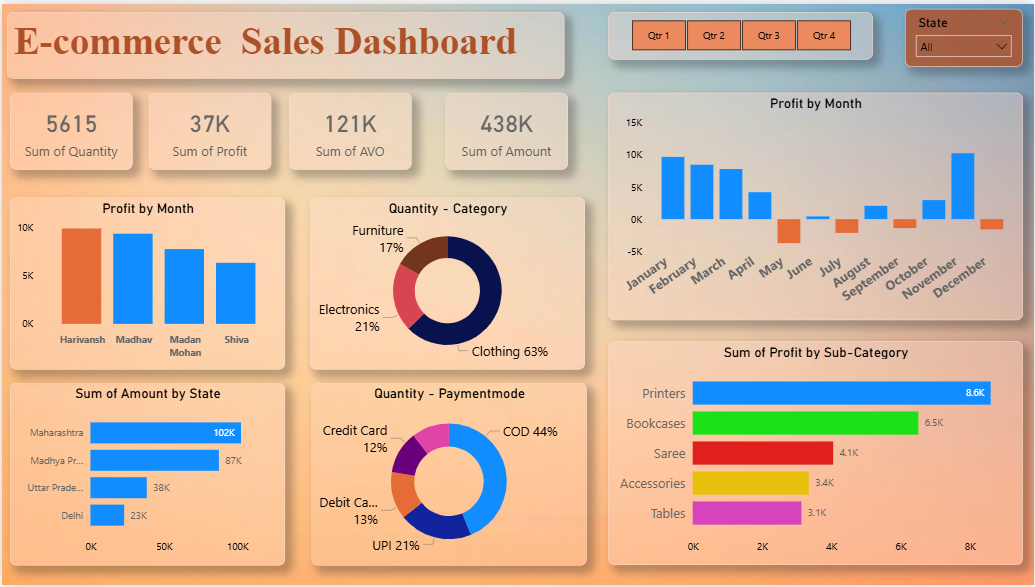

Layout of this report page (visuals, bound fields, positions):
{"tool":"powerbi","page":{"name":"Page 1","canvas":[1280,720],"ordinal":0},"visuals":[{"type":"textbox","box":[6.5,10.9,691.3,82.6],"z":0},{"type":"columnChart","title":"Profit by Month","fields":{"Y":["Sum(Details.Profit)"],"Category":["Orders.Order Date.Variation.Date Hierarchy.Month"]},"box":[752,110,514,282],"z":1000},{"type":"barChart","fields":{"Category":["Details.Sub-Category"],"Y":["Sum(Details.Profit)"]},"box":[752,418,514,278],"z":1001},{"type":"donutChart","title":"Quantity - Category","fields":{"Category":["Details.Category"],"Y":["Sum(Details.Quantity)"]},"box":[382.6,239.1,341.3,213],"z":1002},{"type":"donutChart","title":"Quantity - Paymentmode","fields":{"Y":["Sum(Details.Quantity)"],"Category":["Details.PaymentMode"]},"box":[384.8,469.5,341.3,226.1],"z":1003},{"type":"card","fields":{"Values":["Sum(Details.Amount)"]},"box":[550,110.9,152.2,95.6],"z":1005},{"type":"card","fields":{"Values":["Sum(Details.Profit)"]},"box":[182.6,110.9,152.2,95.6],"z":1006},{"type":"card","fields":{"Values":["Sum(Details.Quantity)"]},"box":[10.9,110.9,152.2,95.6],"z":1007},{"type":"card","fields":{"Values":["Sum(Details.AVO)"]},"box":[356.5,110.9,152.2,95.6],"z":1008},{"type":"barChart","fields":{"Category":["Orders.State"],"Y":["Sum(Details.Amount)"]},"box":[10.9,469.5,341.3,226.1],"z":1009},{"type":"columnChart","title":"Profit by Month","fields":{"Category":["Orders.CustomerName"],"Y":["Sum(Details.Amount)"]},"box":[10.9,239.1,341.3,213],"z":1010},{"type":"slicer","fields":{"Values":["Orders.Order Date.Variation.Date Hierarchy.Quarter"]},"box":[752.1,10.9,328.2,58.7],"z":1011},{"type":"slicer","fields":{"Values":["Orders.State"]},"box":[1119.5,6.5,145.6,71.7],"z":1012}]}

Visuals, with their boxes in screenshot pixels (x1, y1, x2, y2), scaled from the page's 1280x720 canvas onto the 1035x587 screenshot:
textbox: [left=5, top=9, right=564, bottom=76]
"Profit by Month" columnChart: [left=608, top=90, right=1024, bottom=320]
barChart - Details.Sub-Category x Sum(Details.Profit): [left=608, top=341, right=1024, bottom=567]
"Quantity - Category" donutChart: [left=309, top=195, right=585, bottom=369]
"Quantity - Paymentmode" donutChart: [left=311, top=383, right=587, bottom=567]
card - Sum(Details.Amount): [left=445, top=90, right=568, bottom=168]
card - Sum(Details.Profit): [left=148, top=90, right=271, bottom=168]
card - Sum(Details.Quantity): [left=9, top=90, right=132, bottom=168]
card - Sum(Details.AVO): [left=288, top=90, right=411, bottom=168]
barChart - Orders.State x Sum(Details.Amount): [left=9, top=383, right=285, bottom=567]
"Profit by Month" columnChart: [left=9, top=195, right=285, bottom=369]
slicer - Orders.Order Date.Variation.Date Hierarchy.Quarter: [left=608, top=9, right=874, bottom=57]
slicer - Orders.State: [left=905, top=5, right=1023, bottom=64]
